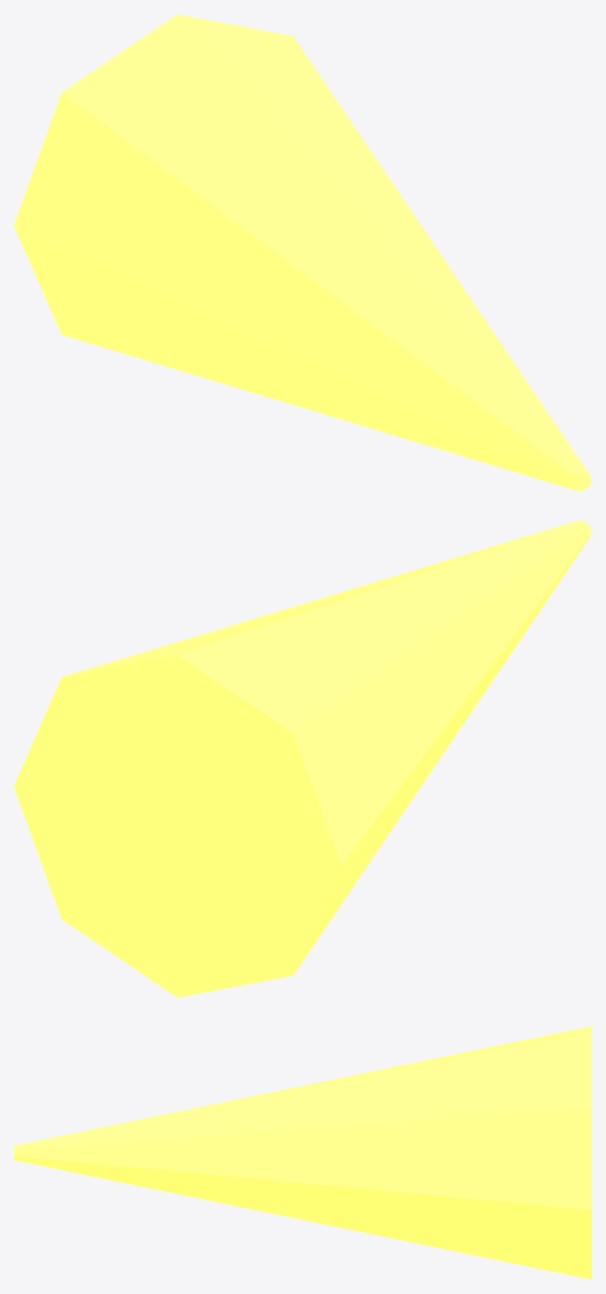
The model's file is VXFX_MUZZLE_v001.fbx.
3 renders of one model, top to bottom at view 1: azimuth 30°, elevation 25°; view 2: azimuth 150°, elevation 25°; view 3: azimuth 270°, elevation 25°, orthographic. The views are drawn at different scales.
Visible parts, largest first — view 1: Orange muzzle flare; view 2: Orange muzzle flare; view 3: Orange muzzle flare.
Part boxes in pixels (<box>): Orange muzzle flare: <box>14,14,591,491</box>; Orange muzzle flare: <box>14,520,591,997</box>; Orange muzzle flare: <box>14,1026,591,1279</box>.
Size of the model in its own units: 7 by 7 by 15.
